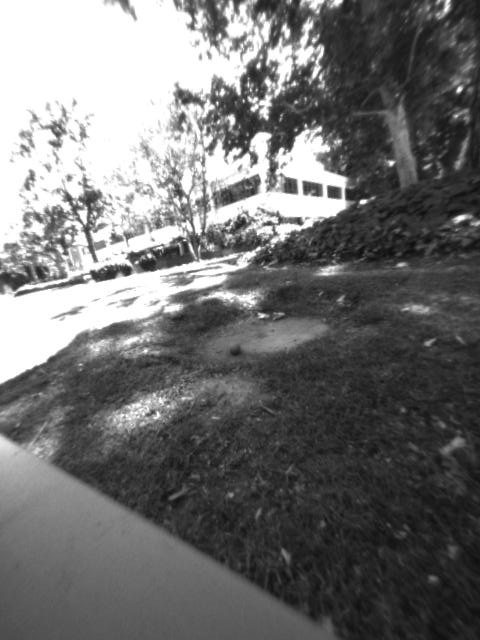dogtoy: (221, 337, 251, 363)
